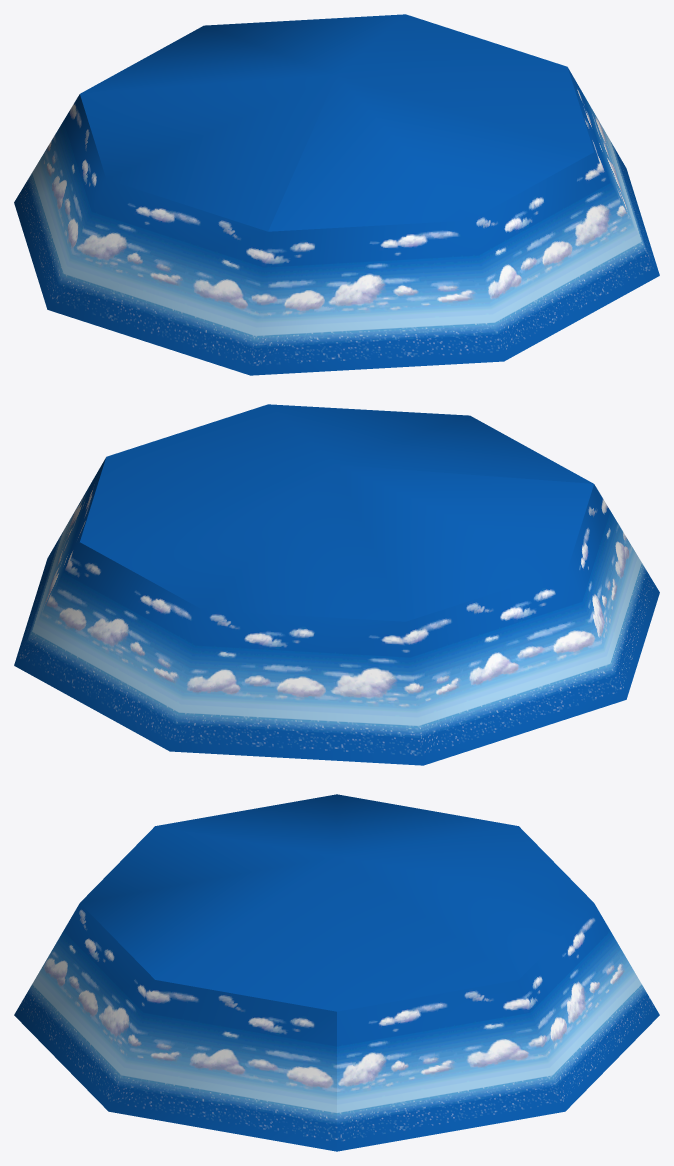
Rendered from MainRaceway.glb.
3 renders of one model, top to bottom at view 1: azimuth 30°, elevation 25°; view 2: azimuth 150°, elevation 25°; view 3: azimuth 270°, elevation 25°, orthographic. The views are drawn at different scales.
Visible parts, largest first — view 1: mario_course; view 2: mario_course; view 3: mario_course.
Boxes of the visible parts, x1,y1,x2,y2 form: mario_course: [14, 14, 659, 375]; mario_course: [14, 404, 659, 765]; mario_course: [14, 794, 659, 1151].
Size of the model in its own units: 745 by 202 by 745.
Materials: 22 (22 with a texture image).
